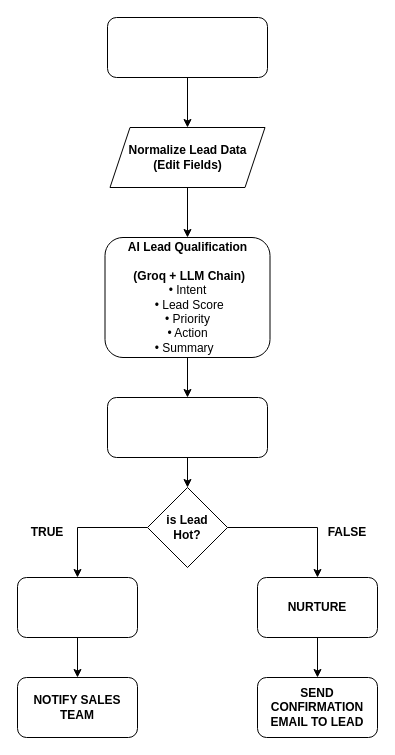
Image size: 395x755. Some labels were removed from this diagram. The shapes that lost their labels are listed below. From the top down, each one's box as (x1, y1, x2, y2) in pixels, then its label:
(106, 16, 268, 78): LEAD SUBMISSION (Webhook API)
(106, 396, 268, 458): Save Load to CRM (Google sheets)
(16, 576, 138, 638): SALES_CONTACT
